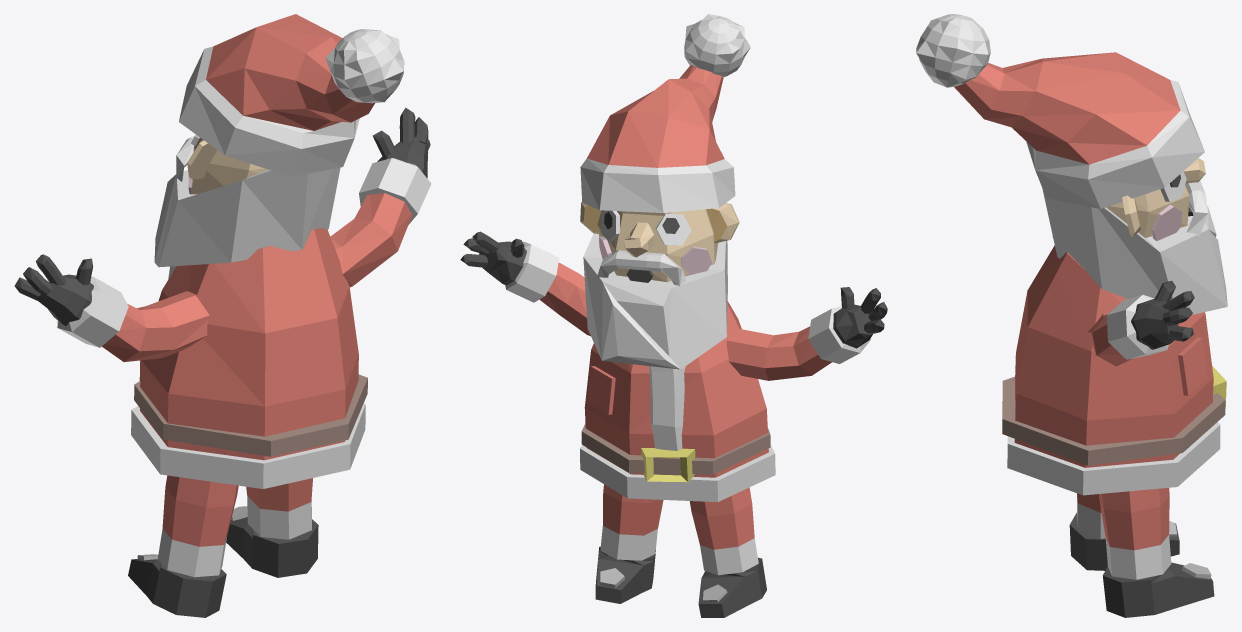
The model's file is santa.fbx.
3 views of the same model, side by side, from view 1: azimuth 30°, elevation 25°; view 2: azimuth 150°, elevation 25°; view 3: azimuth 270°, elevation 25° (orthographic). The views are drawn at different scales.
Visible parts, largest first — view 1: group_27873801; view 2: group_27873801; view 3: group_27873801.
Part boxes in pixels (bbox=[...]): group_27873801: bbox=[14, 14, 431, 617]; group_27873801: bbox=[460, 14, 887, 617]; group_27873801: bbox=[916, 14, 1227, 617].
Bounding box in the file's own units: 49.29 × 62.73 × 29.98.
